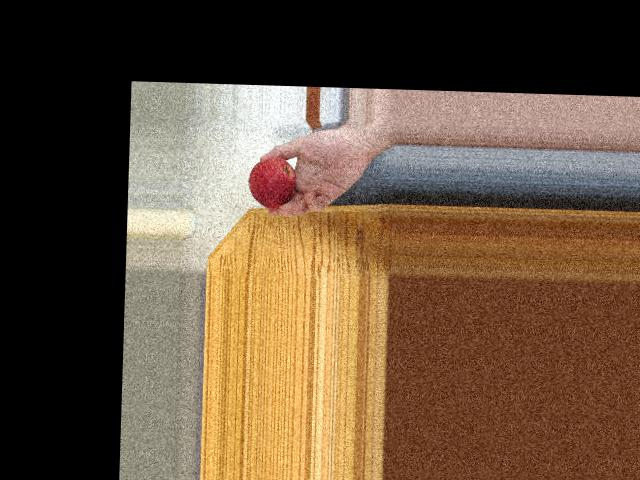apple: (246, 154, 297, 211)
